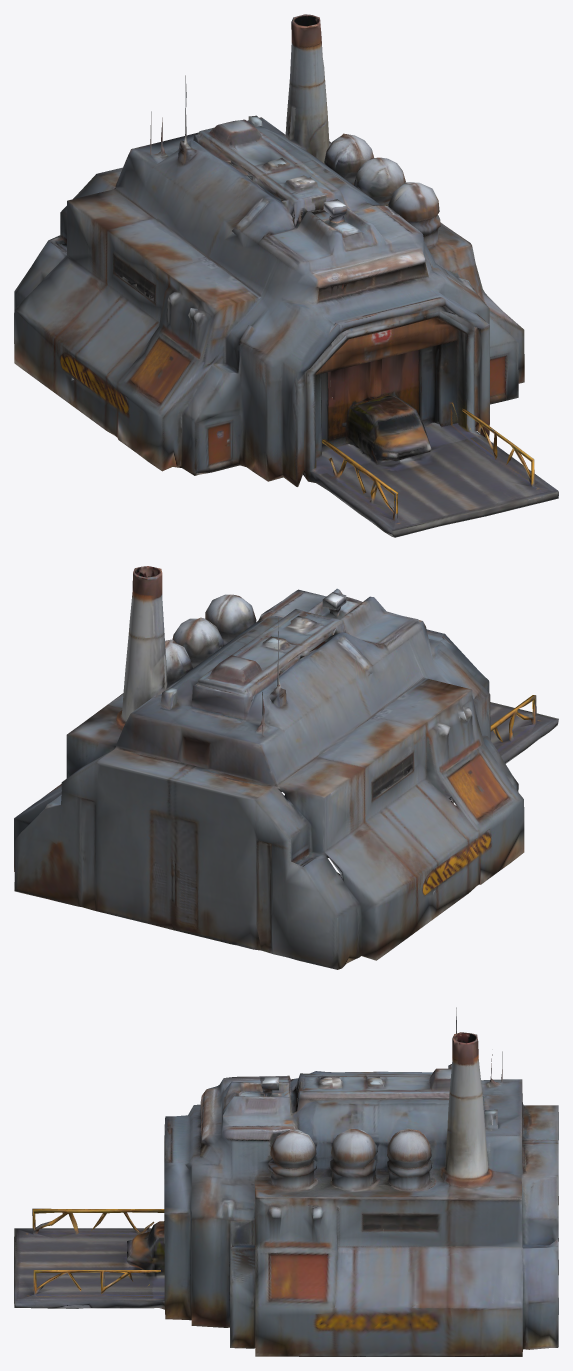
The model's file is Armored_BunkerWar_fac_0412225256_texture.glb.
3 views of the same model, one above another, from view 1: azimuth 30°, elevation 25°; view 2: azimuth 150°, elevation 25°; view 3: azimuth 270°, elevation 25° (orthographic). The views are drawn at different scales.
Bounding box in the file's own units: 1.4 × 1.12 × 2.
Materials: 1 (1 with a texture image).
